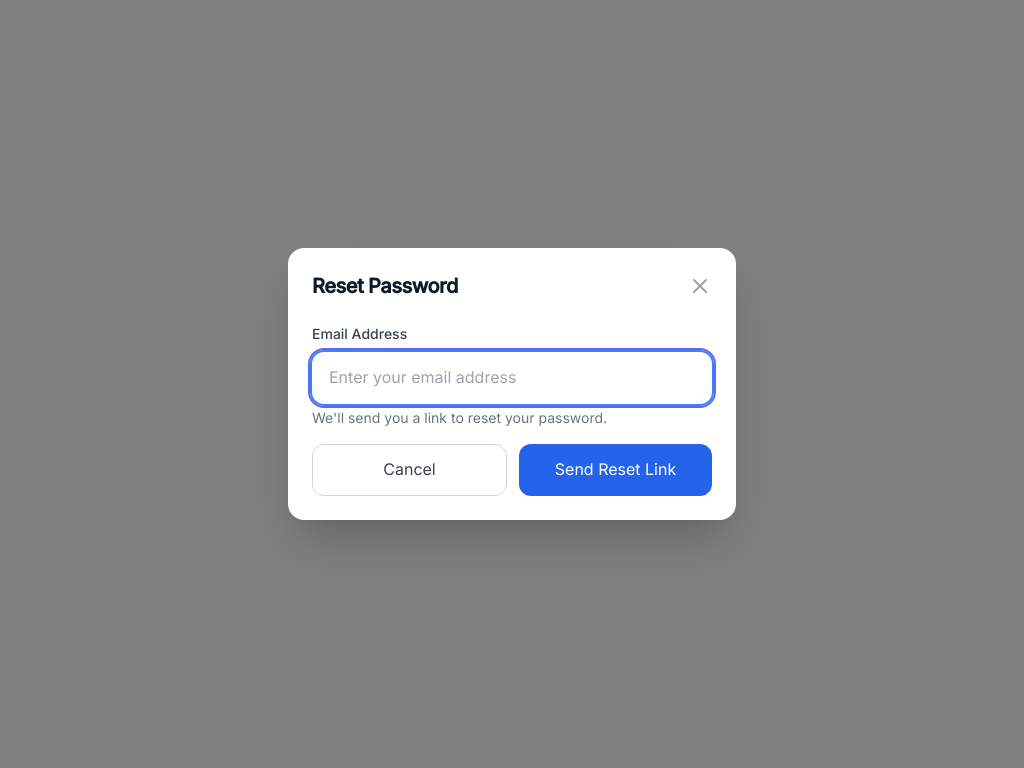
PasswordRecovery — submission and feedback › never stays silent when the request fails (HTTP 4xx/5xx path)
Type "shopper@example.com" into the field labelled "Email Address". click: {"x": 512, "y": 378}
box: [312,352,712,404]
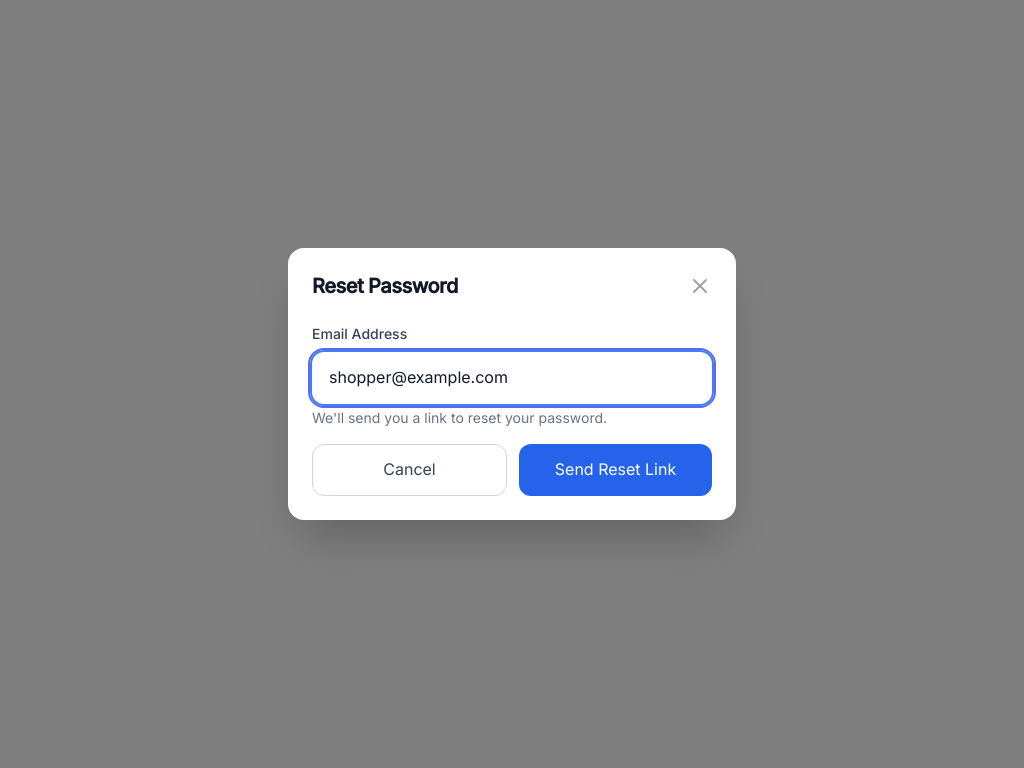
Click the button "Send Reset Link". click: {"x": 616, "y": 470}
box: [519,444,712,496]
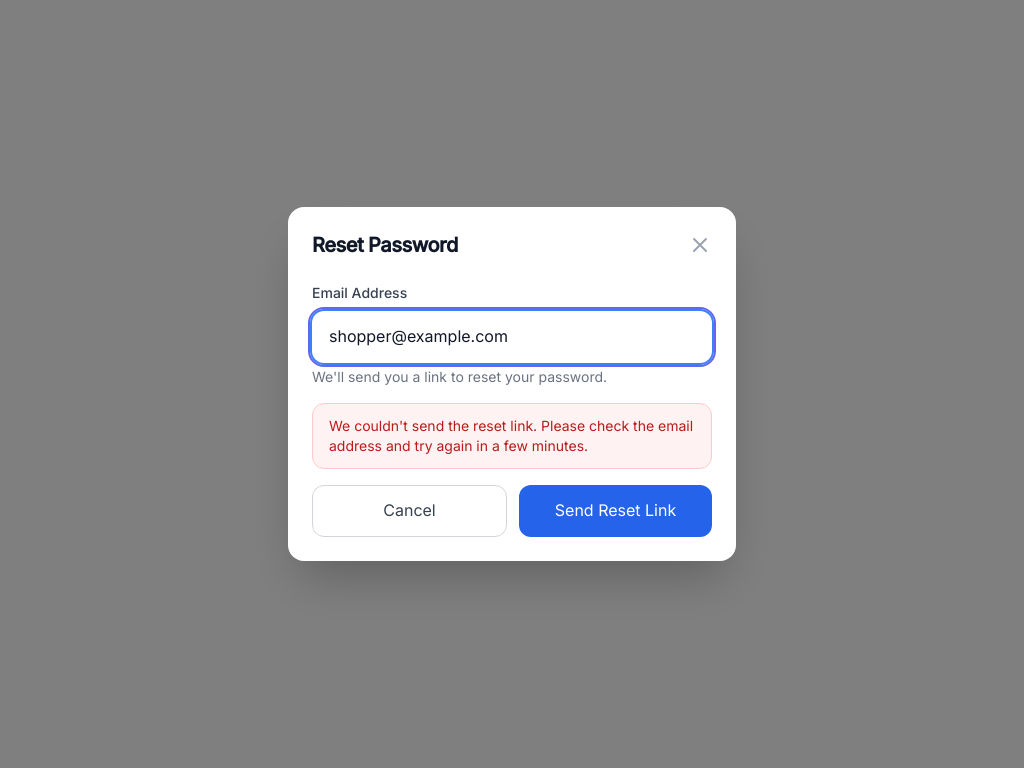
Expected: the text "couldn't send the reset link" is shown, [329,417,693,454]
